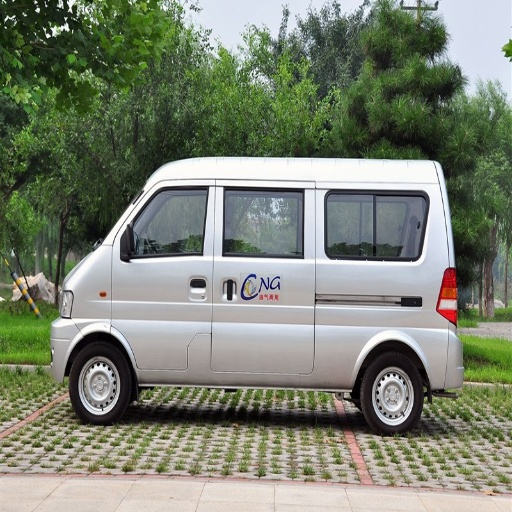back_left_door: (214, 181, 293, 362), (351, 192, 421, 259)
trunk: (269, 286, 453, 389)
